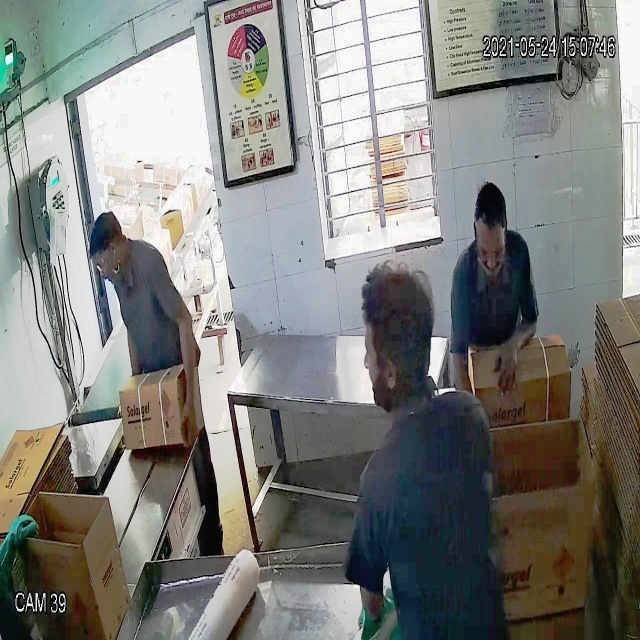Gafas: (473, 236, 509, 269)
